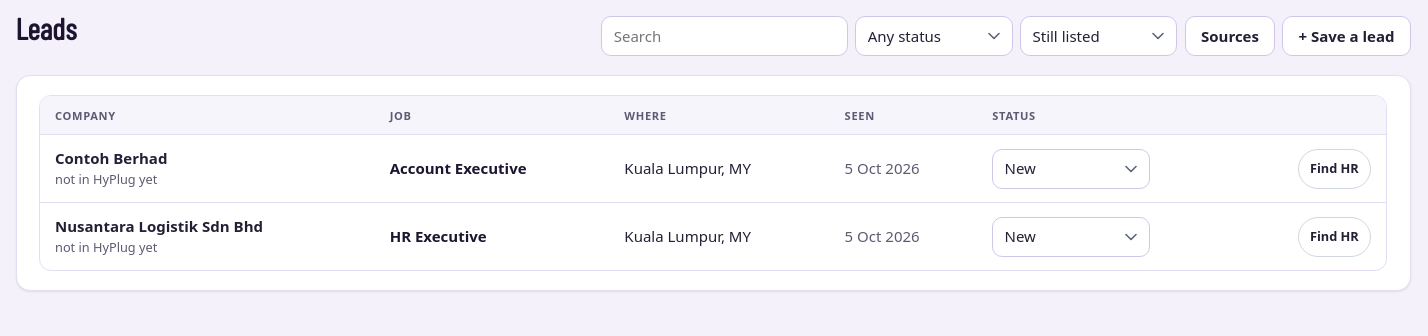
Test: leads › opens Find HR for a lead in a panel beside the list, one lead at a time
Later steps or results of the test are not shown.
Click the button with aria-label "Find HR for Contoh Berhad" at [1334, 169], box [1298,149,1371,189]
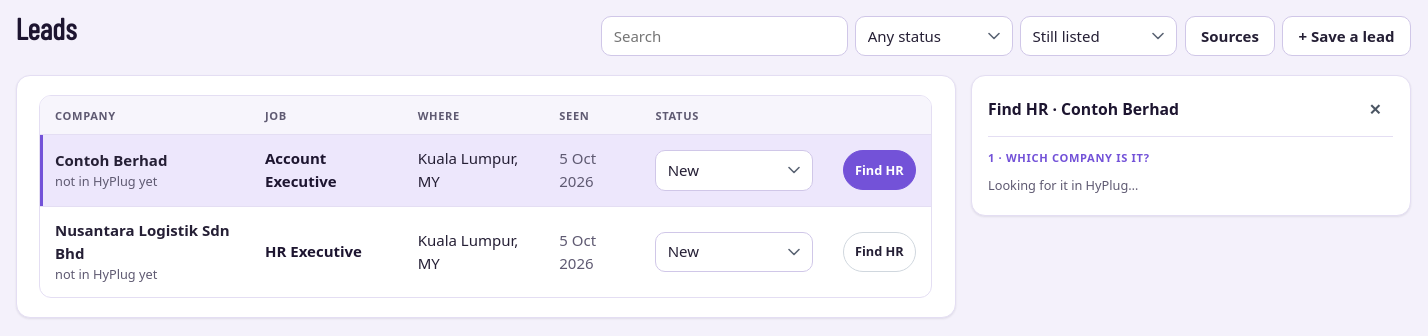
Now the heading "1 · Which company is it?" is shown, box [988,150,1150,164]
# Another lead's button switches the panel to it.
Click the button with aria-label "Find HR for Nusantara Logistik Sdn Bhd" at [879, 252], box [843,232,916,272]
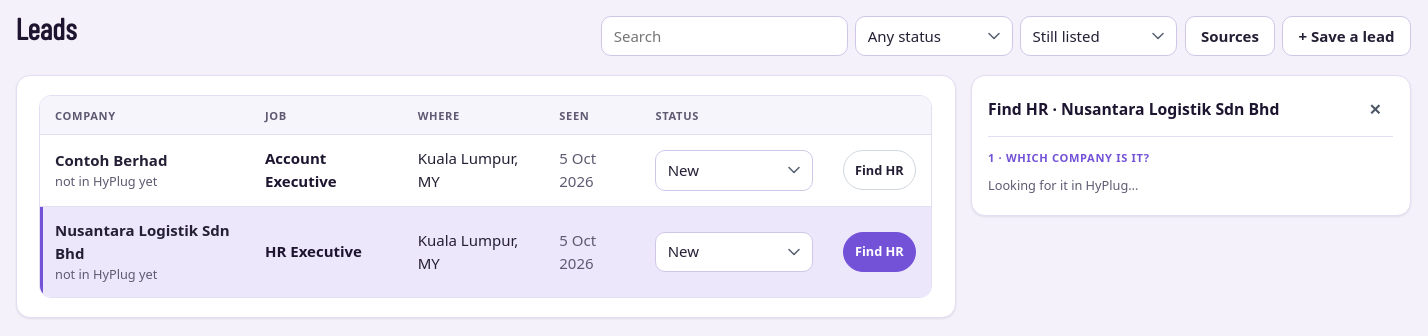
Now the element named "Find HR for Nusantara Logistik Sdn Bhd" is shown, box [970,75,1410,216]
Press Escape
Now the element named "Find HR for Nusantara Logistik Sdn Bhd" is shown, box [970,75,1410,216]
